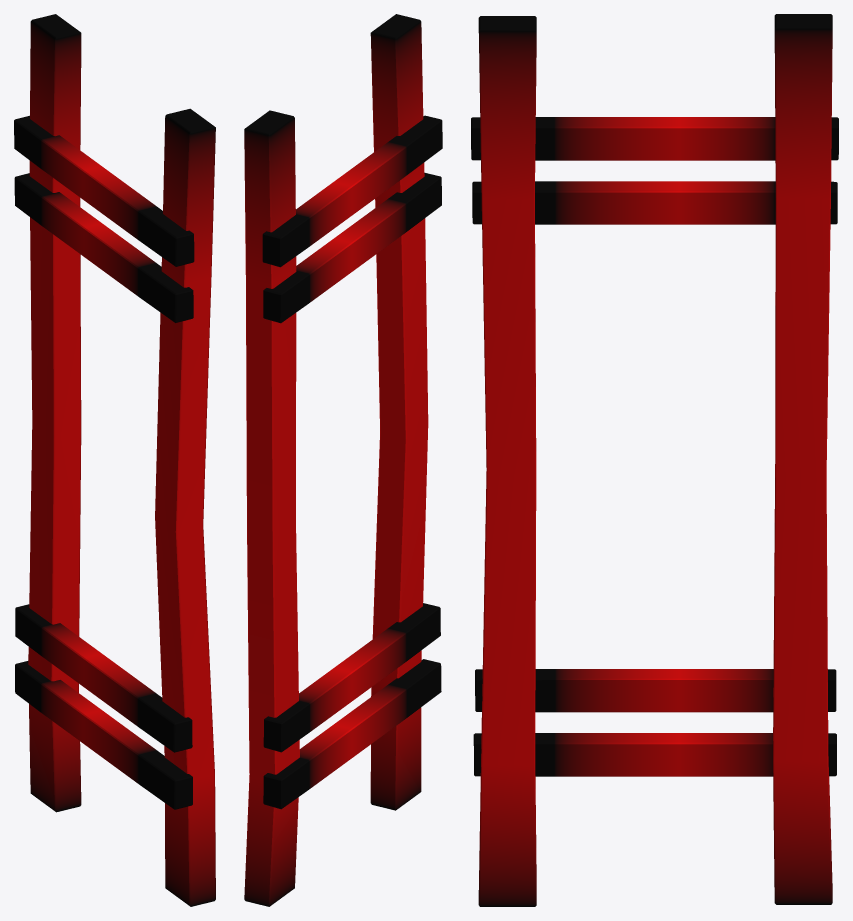
Rendered from SM_BoardWalkSupport_1m.FBX.
3 renders of one model, left to right at view 1: azimuth 30°, elevation 25°; view 2: azimuth 150°, elevation 25°; view 3: azimuth 270°, elevation 25°, orthographic. The views are drawn at different scales.
Parts seen in each view (by area): view 1: SM_BoardWalkSupport_1m_LOD0; view 2: SM_BoardWalkSupport_1m_LOD0; view 3: SM_BoardWalkSupport_1m_LOD0.
Part boxes in pixels (x1=…): SM_BoardWalkSupport_1m_LOD0: x1=14, y1=14, x2=215, y2=906; SM_BoardWalkSupport_1m_LOD0: x1=244, y1=14, x2=442, y2=906; SM_BoardWalkSupport_1m_LOD0: x1=471, y1=14, x2=838, y2=906.
Size of what is drawn, in the model's own units: 15.58 by 97.78 by 257.
